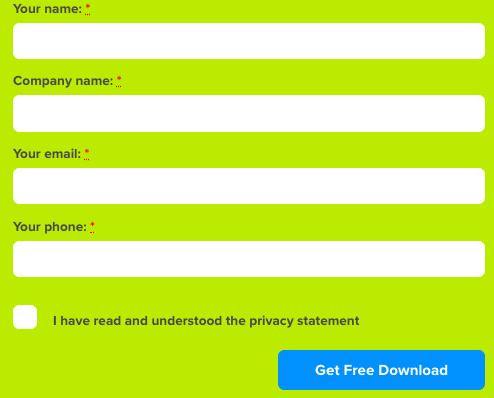button: (277, 348, 488, 392)
checkbox: (9, 301, 39, 332)
checkbox_with_label: (5, 297, 358, 334)
field: (9, 92, 489, 134), (10, 20, 488, 61), (10, 239, 487, 280), (10, 167, 489, 207)
field_with_label: (6, 1, 492, 64), (5, 74, 491, 137), (8, 148, 492, 210), (7, 221, 489, 283)
